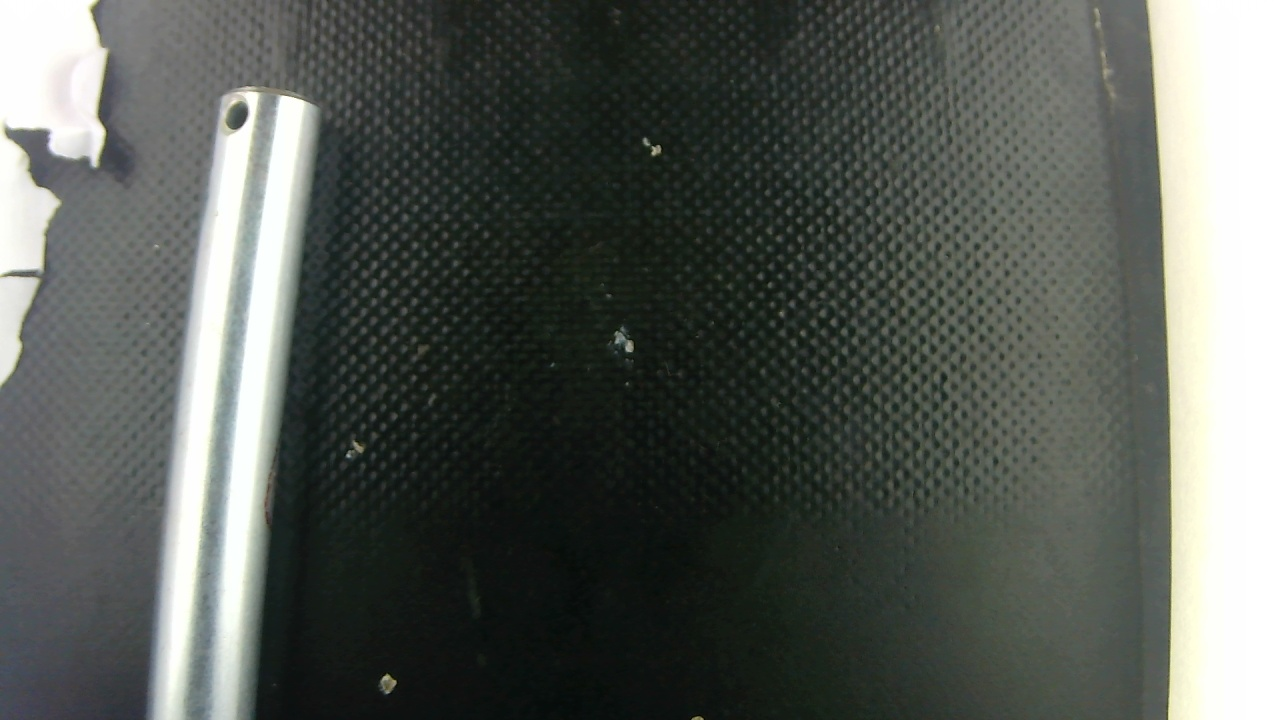Okay_Pin: (147, 88, 319, 719)
